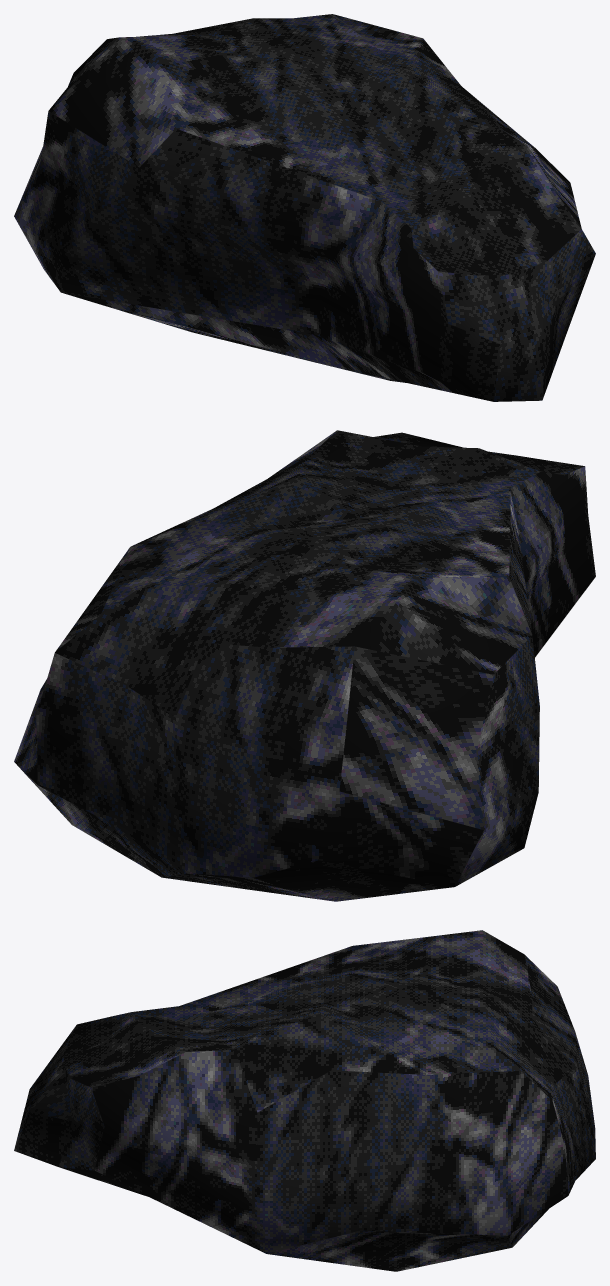
File: rock.glb
The picture shows the model from 3 angles, top to bottom: view 1: azimuth 30°, elevation 25°; view 2: azimuth 150°, elevation 25°; view 3: azimuth 270°, elevation 25°; orthographic projection. The views are drawn at different scales.
Visible parts, largest first — view 1: rock.col; view 2: rock.col; view 3: rock.col.
Part boxes in pixels (left/top/right/bottom): rock.col: left=14, top=14, right=595, bottom=401; rock.col: left=14, top=430, right=595, bottom=901; rock.col: left=14, top=930, right=595, bottom=1271.
Bounding box in the file's own units: 3.97 × 2.64 × 5.61.
Materials: 1 (1 with a texture image).
